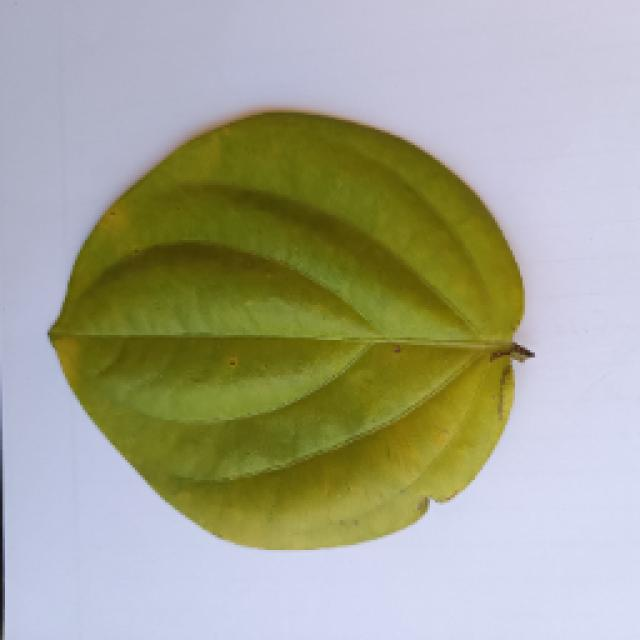slow-decline: (50, 110, 525, 548)
